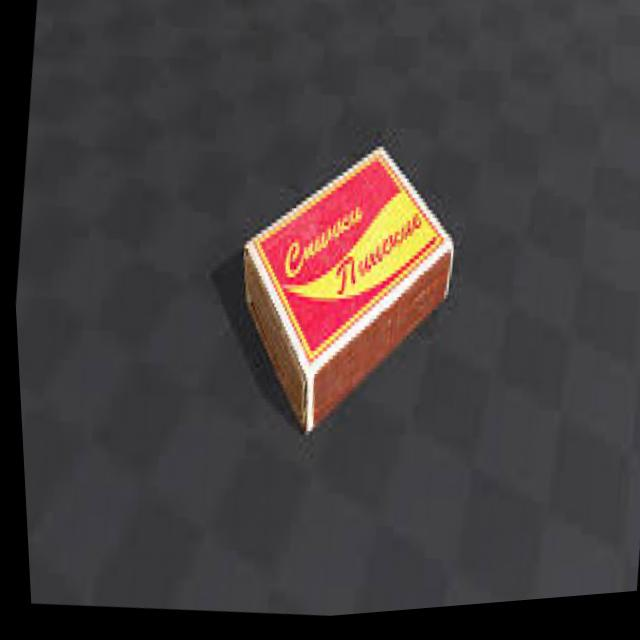match: (210, 124, 474, 464)
